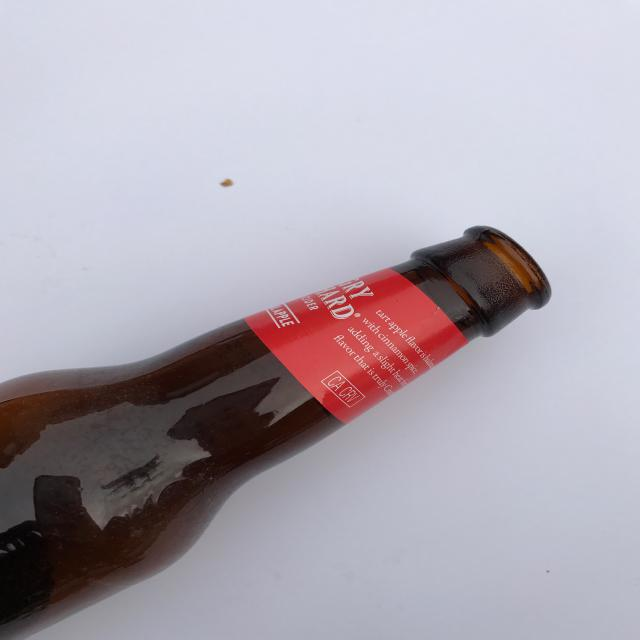glass: (0, 224, 552, 640)
